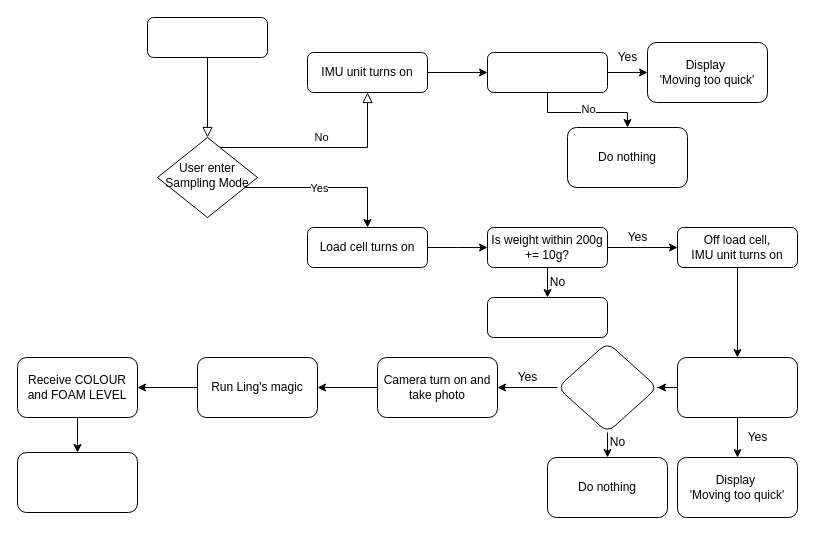
The diagram is 815 pixels wide and 535 high, and some of its shapes have lost their labels. The shapes that lost their labels are listed below. From the top down, each one's centre as x and y in pixels, then its label:
At [207,37]: "UI on boot".
At [547,72]: "Is tilt/ accel/ vel over HARD limit?".
At [547,317]: "Display 'Weight out of bound'".
At [607,387]: "Capture button press?".
At [737,387]: "Is tilt/ accel/ vel over SOFT limit?".
At [77,482]: "Display results".
